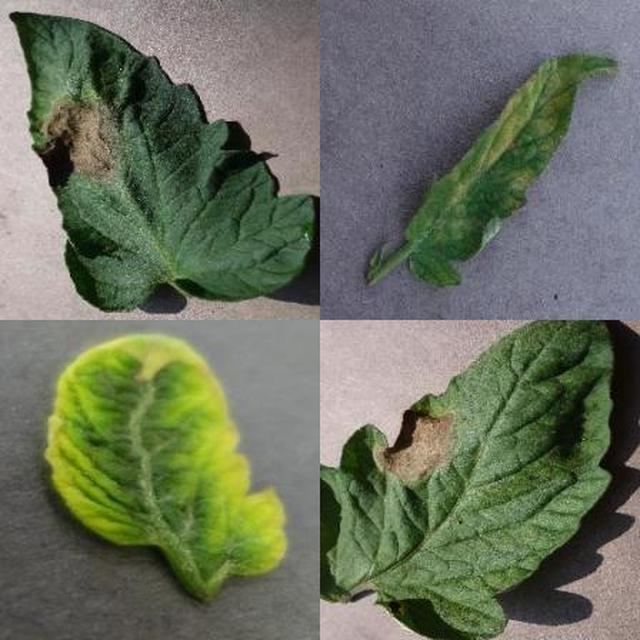Late Blight Leaf: (232, 230, 640, 640)
